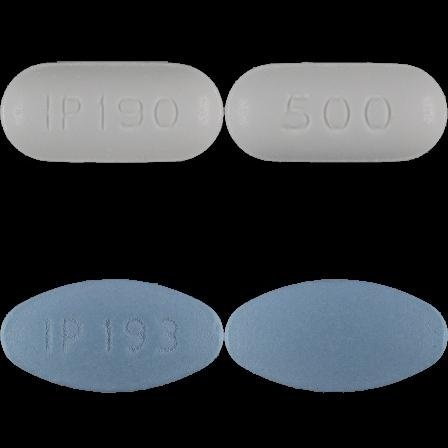53746-190: (0, 0, 224, 224)
